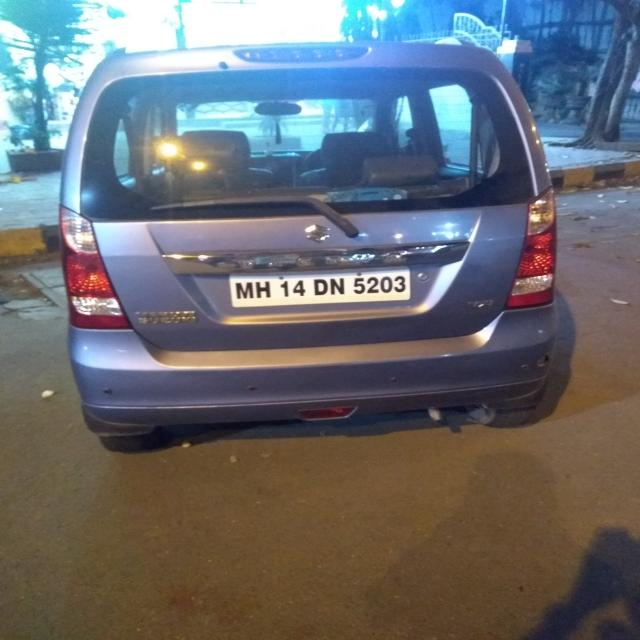Number-Plate: (230, 270, 411, 305)
